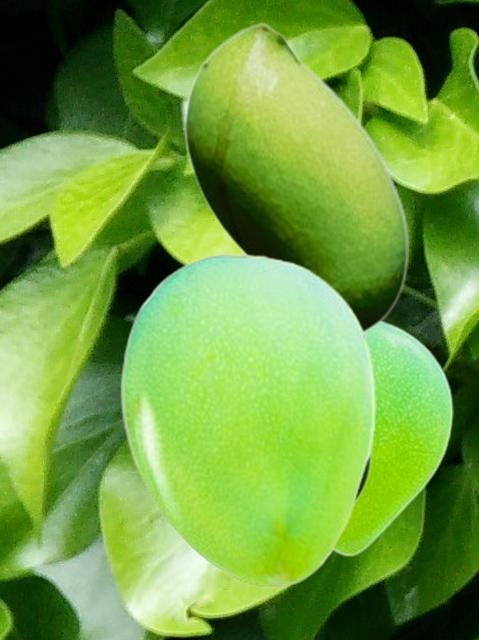green_mango: (119, 253, 375, 586), (183, 21, 407, 335), (333, 319, 452, 556)
